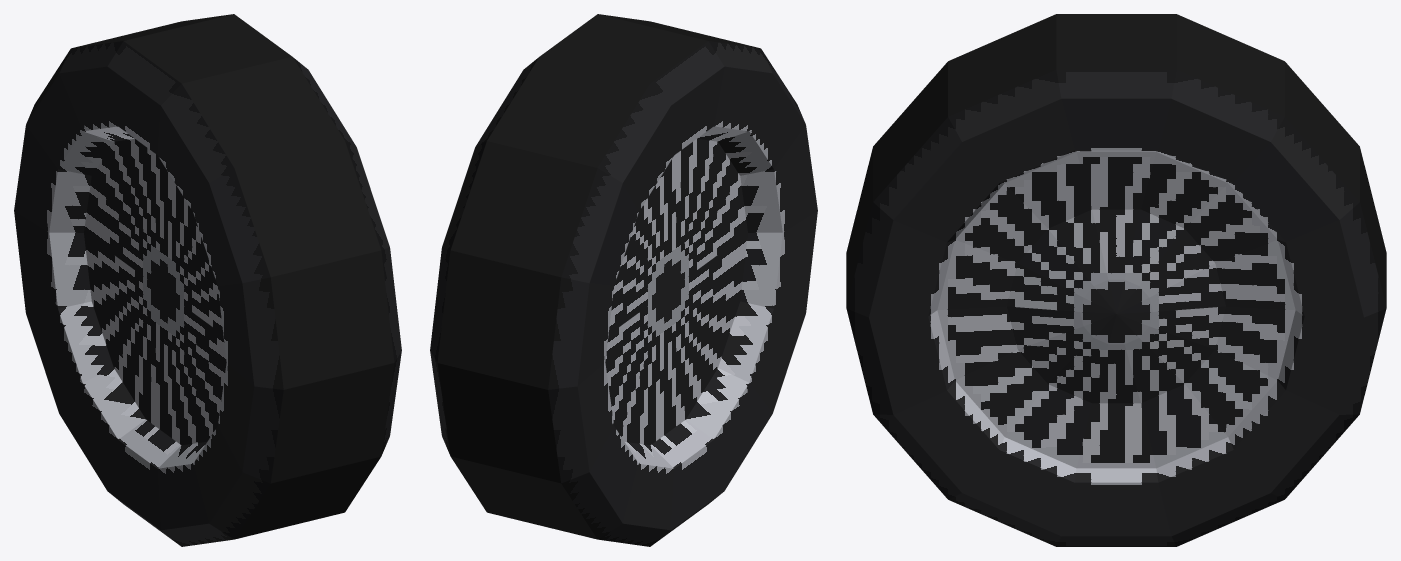
Rendered from wheel_turbine16_r.glb.
3 renders of one model, left to right at view 1: azimuth 30°, elevation 25°; view 2: azimuth 150°, elevation 25°; view 3: azimuth 270°, elevation 25°, orthographic. The views are drawn at different scales.
Parts seen in each view (by area): view 1: Wheel; view 2: Wheel; view 3: Wheel.
Part boxes in pixels (box(x1,y1,x2,y2)): Wheel: box(14, 14, 401, 546); Wheel: box(430, 14, 817, 546); Wheel: box(846, 14, 1386, 546).
Bounding box in the file's own units: 0.195 × 0.585 × 0.6.
2 materials, 1 textured.
